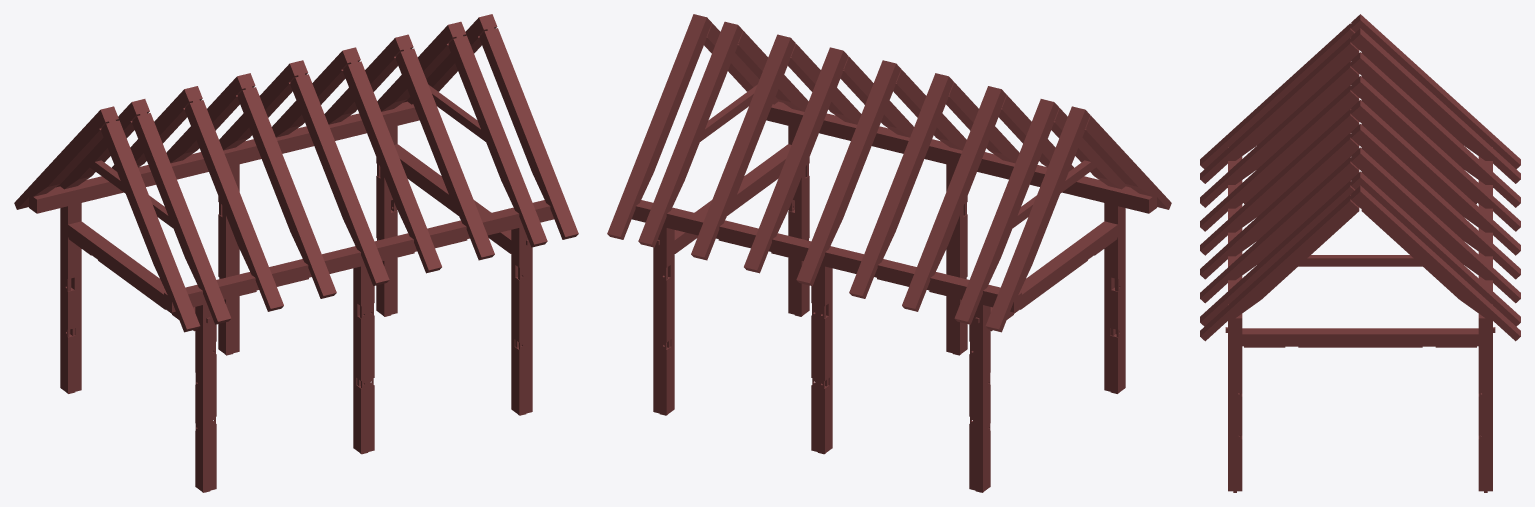
Rendered from Roof.obj.
3 views of the same model, side by side, from view 1: azimuth 30°, elevation 25°; view 2: azimuth 150°, elevation 25°; view 3: azimuth 270°, elevation 25° (orthographic). The views are drawn at different scales.
Parts seen in each view (by area): view 1: object_54, object_55, object_45, object_49, object_46, object_53, object_50, object_48, object_52, object_51, object_47, object_62 (+18 smaller); view 2: object_55, object_54, object_44, object_36, object_40, object_43, object_37, object_39, object_41, object_42, object_38, object_59 (+18 smaller); view 3: object_56, object_37, object_40, object_43, object_39, object_41, object_42, object_38, object_46, object_49, object_52, object_48 (+12 smaller).
Part boxes in pixels (left/top/right/bottom): object_54: left=164, top=200, right=553, bottom=312; object_55: left=29, top=101, right=419, bottom=213; object_45: left=101, top=107, right=200, bottom=332; object_49: left=237, top=74, right=336, bottom=298; object_46: left=479, top=15, right=578, bottom=239; object_53: left=448, top=22, right=547, bottom=247; object_50: left=290, top=61, right=389, bottom=285; object_48: left=185, top=86, right=283, bottom=311; object_52: left=396, top=35, right=494, bottom=260; object_51: left=343, top=48, right=441, bottom=273; object_47: left=132, top=99, right=231, bottom=324; object_62: left=353, top=265, right=374, bottom=454; object_55: left=632, top=200, right=1021, bottom=312; object_54: left=766, top=101, right=1156, bottom=213; object_44: left=638, top=21, right=742, bottom=247; object_36: left=985, top=106, right=1090, bottom=332; object_40: left=849, top=73, right=953, bottom=298; object_43: left=691, top=34, right=795, bottom=260; object_37: left=607, top=14, right=711, bottom=239; object_39: left=902, top=86, right=1006, bottom=311; object_41: left=796, top=60, right=900, bottom=285; object_42: left=744, top=47, right=848, bottom=273; object_38: left=954, top=99, right=1059, bottom=324; object_59: left=811, top=265, right=832, bottom=454; object_56: left=1241, top=328, right=1479, bottom=347; object_37: left=1351, top=185, right=1520, bottom=341; object_40: left=1351, top=76, right=1520, bottom=231; object_43: left=1351, top=147, right=1520, bottom=303; object_39: left=1351, top=52, right=1520, bottom=207; object_41: left=1351, top=100, right=1520, bottom=255; object_42: left=1351, top=124, right=1520, bottom=279; object_38: left=1351, top=28, right=1520, bottom=183; object_46: left=1200, top=187, right=1369, bottom=341; object_49: left=1200, top=77, right=1369, bottom=231; object_52: left=1200, top=149, right=1369, bottom=303; object_48: left=1200, top=53, right=1369, bottom=207.
Bounding box in the file's own units: 5800 × 4831 × 4429.
